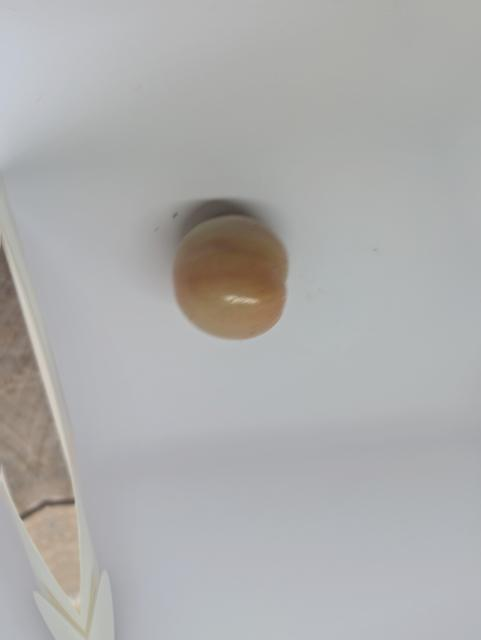turning: (169, 209, 292, 349)
